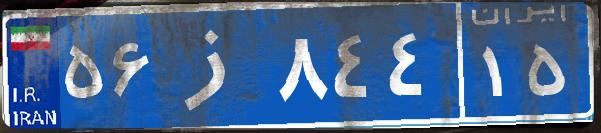1: (475, 38, 525, 113)
4: (385, 28, 445, 110), (330, 28, 385, 110)
5: (57, 26, 110, 107), (525, 38, 570, 115)
6: (110, 28, 158, 105)
8: (273, 28, 330, 110)
ز: (158, 15, 273, 115)
